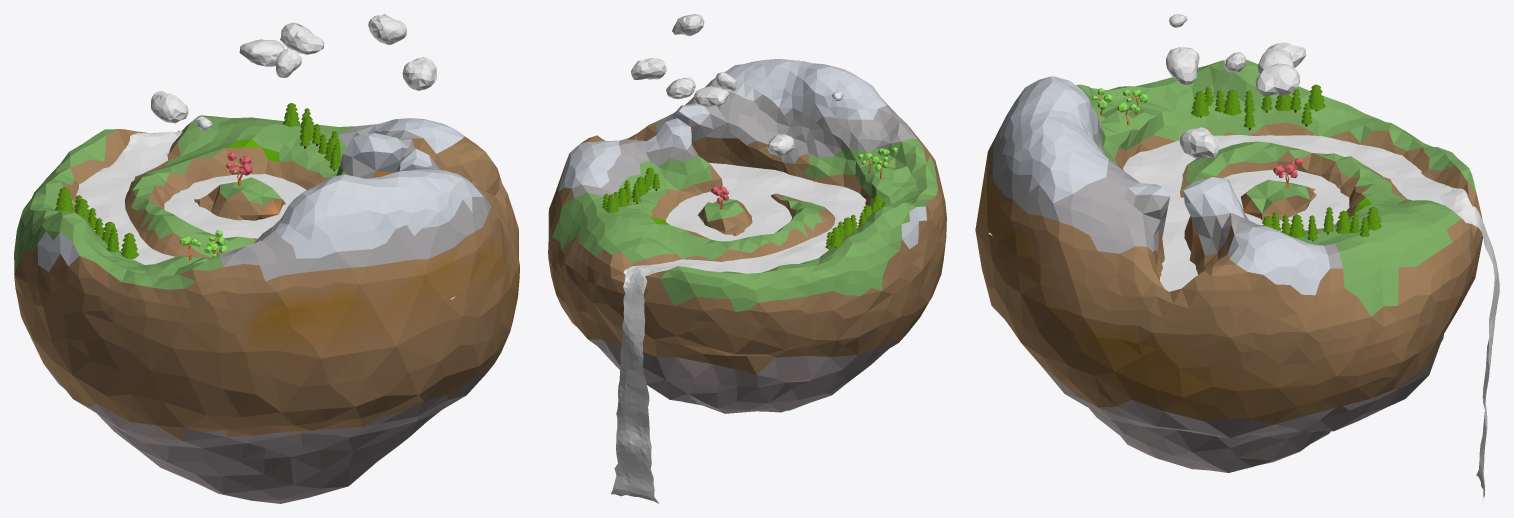
File: island-mountain.glb
The picture shows the model from 3 angles, left to right: view 1: azimuth 30°, elevation 25°; view 2: azimuth 150°, elevation 25°; view 3: azimuth 270°, elevation 25°; orthographic projection. The views are drawn at different scales.
Parts seen in each view (by area): view 1: Icosphere, Plane, Icosphere.001; view 2: Icosphere, Plane, Icosphere.001; view 3: Icosphere, Plane, Icosphere.001.
Part boxes in pixels (x1,y1,x2,y2): Icosphere: (14, 115, 519, 503); Plane: (76, 130, 455, 299); Icosphere.001: (151, 14, 436, 130); Icosphere: (548, 59, 946, 413); Plane: (611, 162, 866, 503); Icosphere.001: (631, 14, 843, 155); Icosphere: (975, 59, 1482, 472); Plane: (988, 135, 1499, 498); Icosphere.001: (1166, 14, 1306, 158).
Bounding box in the file's own units: 2000 × 2071 × 2060.
